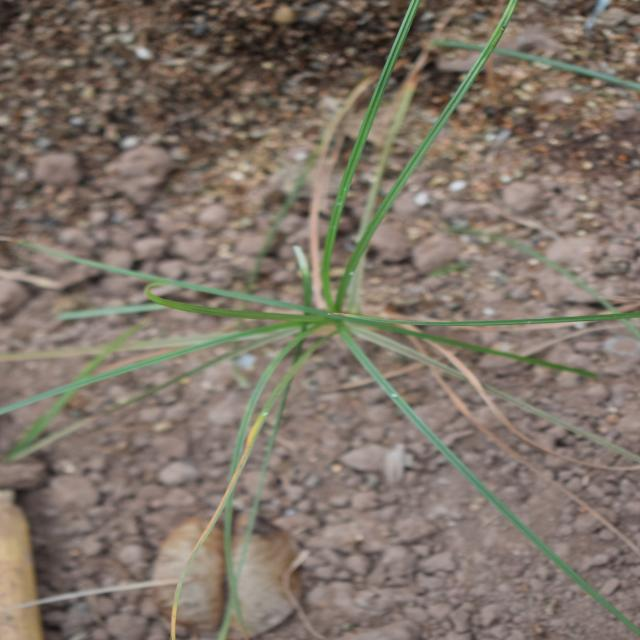sedge: (94, 56, 576, 594)
